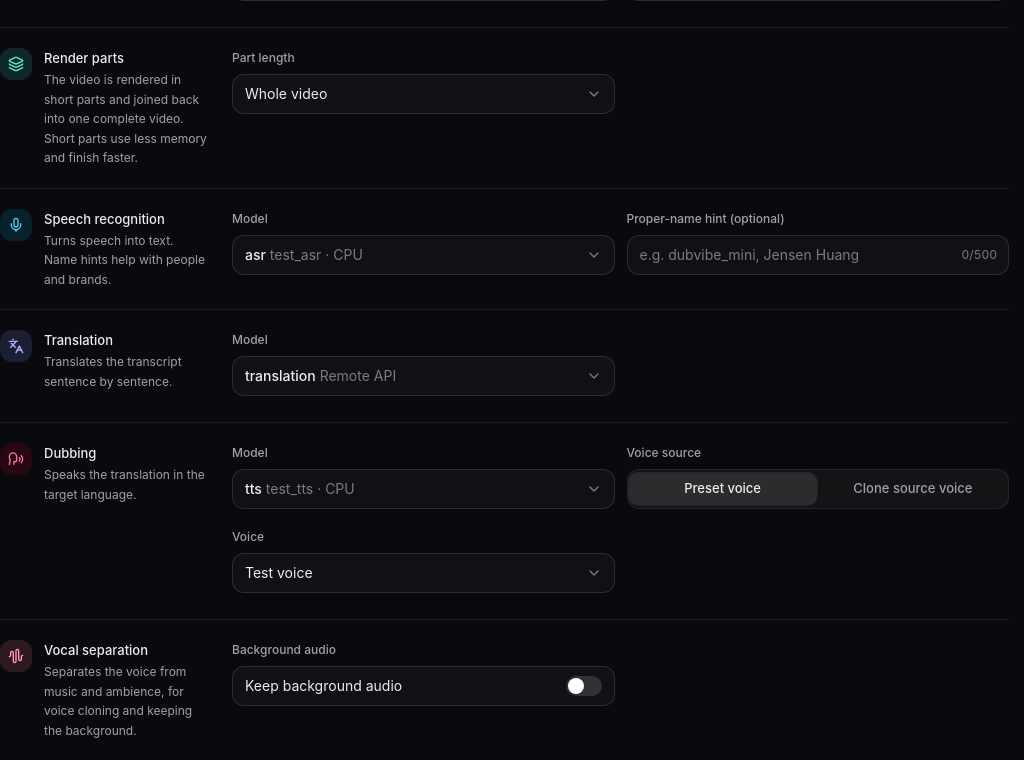
本地化任务配置 › 保留背景音时补上分离模型
(page scrolled)
expect the dropdown named "Speech recognition Model" is shown: met, box [232,234,614,274]
expect the field labelled "Audio separation Model" is not shown: met
What coordinates should you click on to do the following:
click the switch named "Keep background audio"
I would click on:
 (584, 686)
Its box is [566,676,602,696].
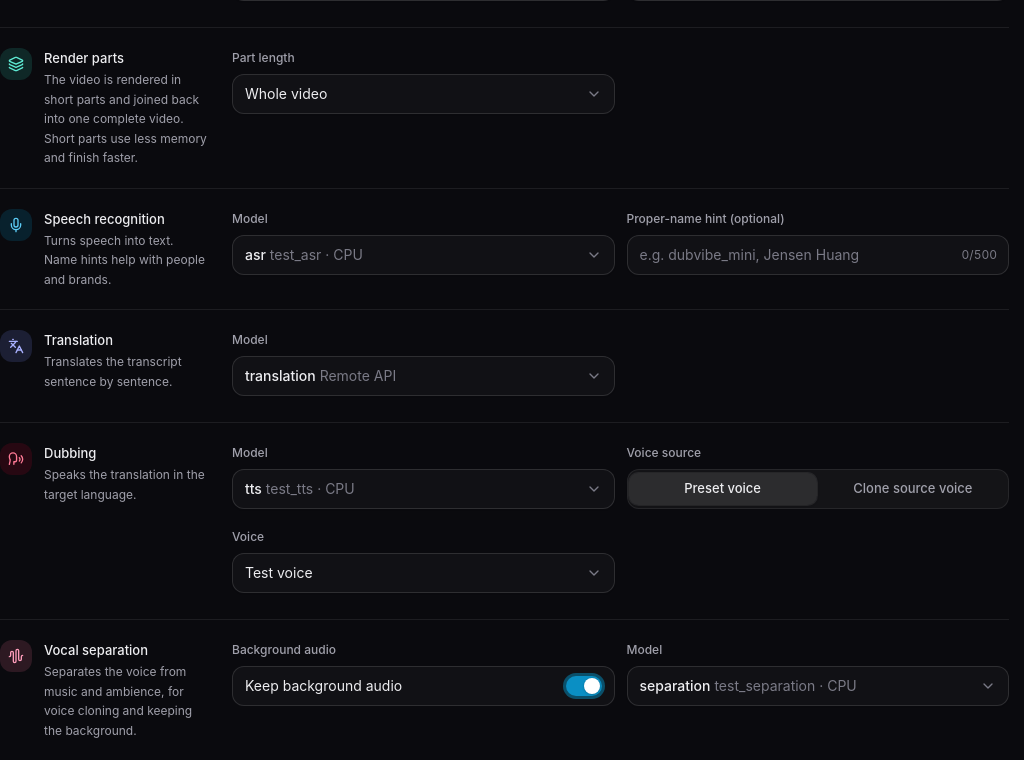
expect the dropdown named "Audio separation Model" reads "separation test_separation · CPU": met, box [626,666,1009,706]
